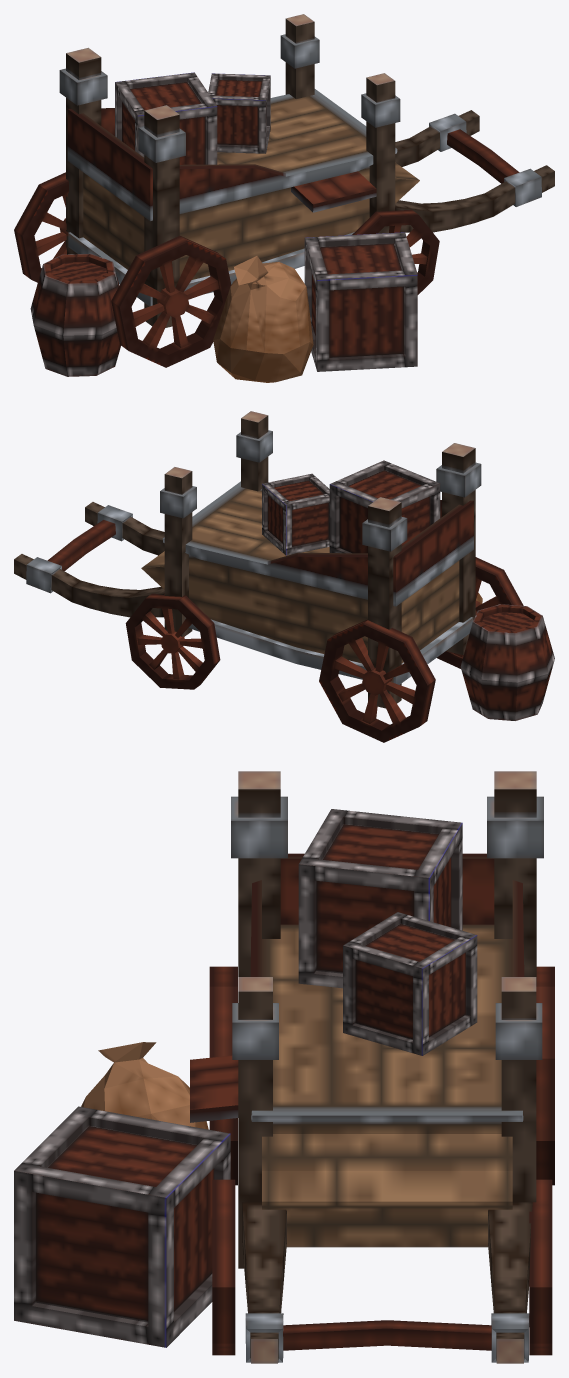
File: Cart.fbx
The picture shows the model from 3 angles, top to bottom: view 1: azimuth 30°, elevation 25°; view 2: azimuth 150°, elevation 25°; view 3: azimuth 270°, elevation 25°; orthographic projection. The views are drawn at different scales.
Visible parts, largest first — view 1: Cart; view 2: Cart; view 3: Cart.
Boxes of the visible parts, x1,y1,x2,y2 form: Cart: (14, 14, 554, 382); Cart: (14, 411, 554, 742); Cart: (14, 771, 554, 1363).
Size of the model in its own units: 130 by 61.36 by 74.62.
2 materials, 2 textured.
